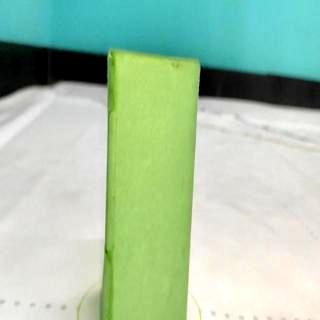greenbox: (104, 49, 202, 320)
